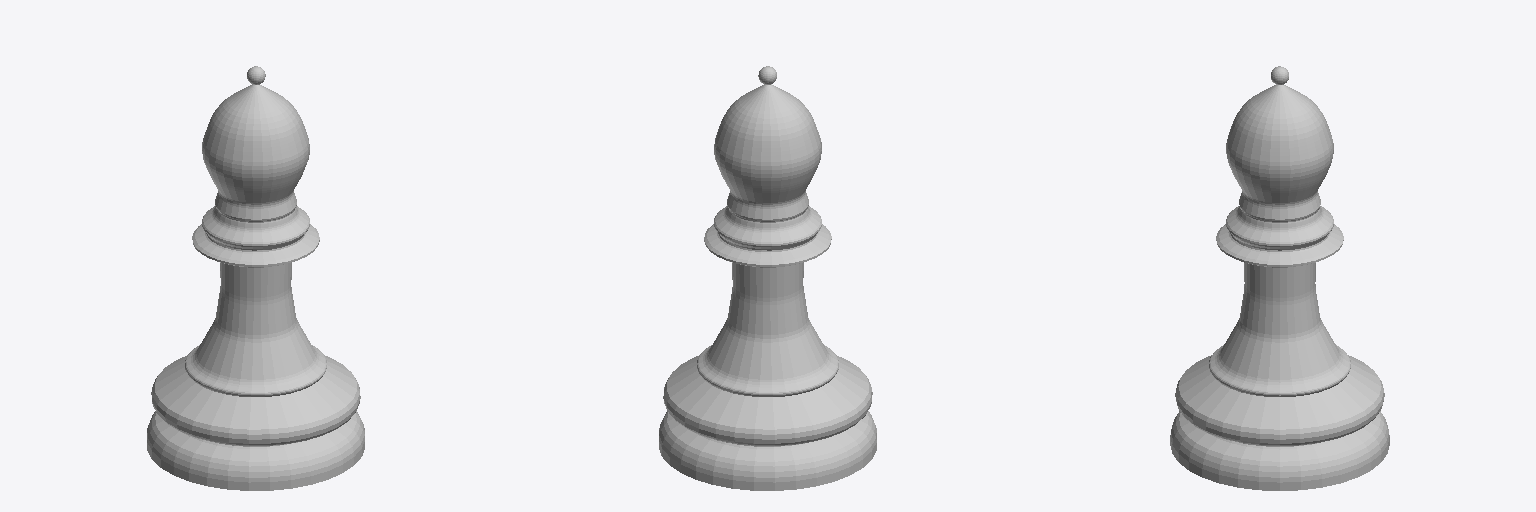
File: bishop2.obj
3 views of the same model, side by side, from view 1: azimuth 30°, elevation 25°; view 2: azimuth 150°, elevation 25°; view 3: azimuth 270°, elevation 25° (orthographic).
Parts seen in each view (by area): view 1: Light_Bishop_2; view 2: Light_Bishop_2; view 3: Light_Bishop_2.
Boxes of the visible parts, x1,y1,x2,y2 form: Light_Bishop_2: [147, 66, 364, 490]; Light_Bishop_2: [659, 66, 876, 490]; Light_Bishop_2: [1170, 66, 1389, 490].
Bounding box in the file's own units: 1.21 × 2.29 × 1.21.